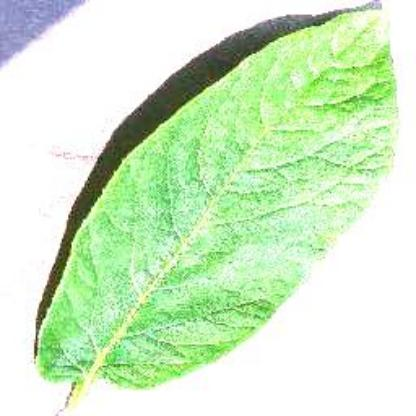Healthy-plant: (33, 6, 402, 408)
